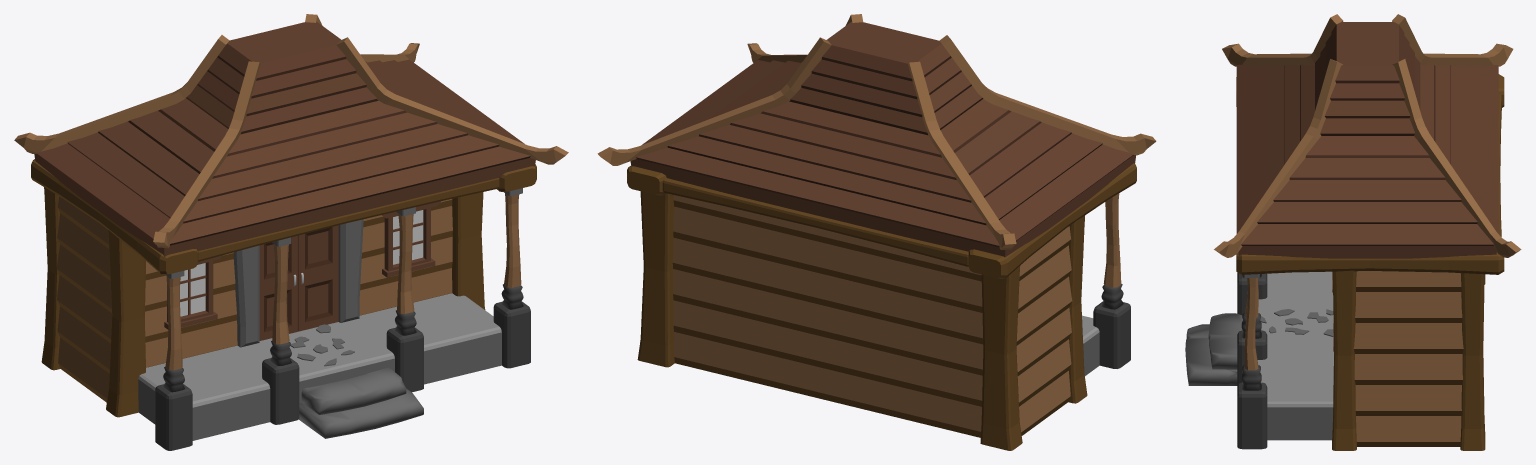
File: Rumah.fbx
3 views of the same model, side by side, from view 1: azimuth 30°, elevation 25°; view 2: azimuth 150°, elevation 25°; view 3: azimuth 270°, elevation 25° (orthographic).
Visible parts, largest first — view 1: House; view 2: House; view 3: House.
Part boxes in pixels (x1,y1,x2,y2): House: [14, 14, 568, 450]; House: [597, 14, 1156, 450]; House: [1185, 14, 1521, 450].
Bounding box in the file's own units: 922 × 697 × 655.
1 material, 1 textured.
